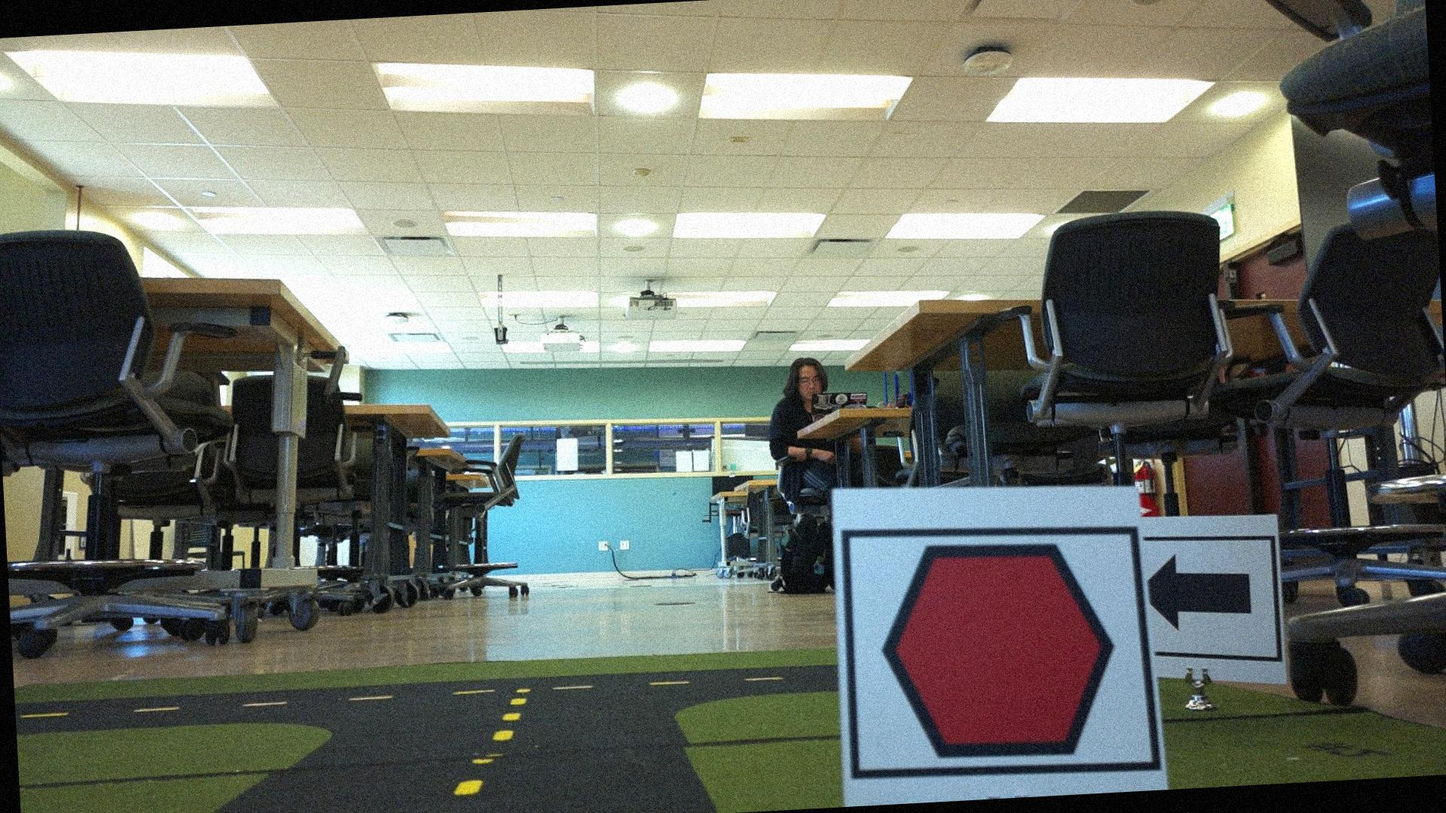stop: (858, 527, 1136, 775)
turnright: (1144, 540, 1276, 647)
yellowline: (426, 772, 485, 812), (486, 692, 527, 744)
